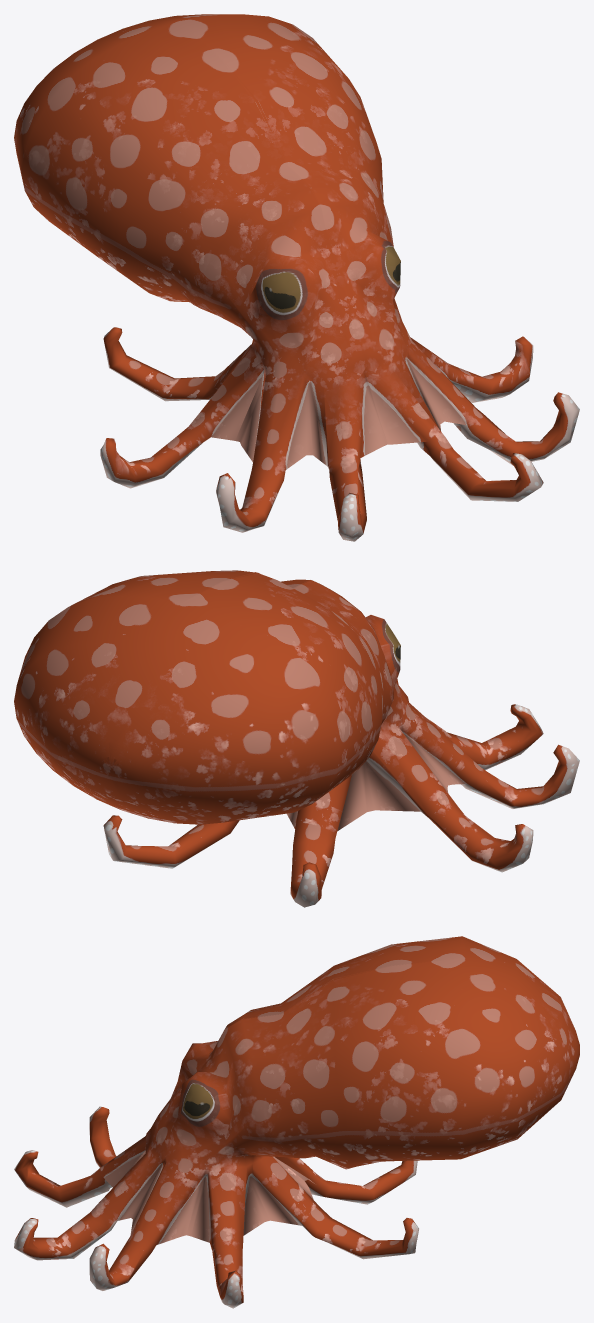
File: northAtlanticOcto00.fbx
3 renders of one model, top to bottom at view 1: azimuth 30°, elevation 25°; view 2: azimuth 150°, elevation 25°; view 3: azimuth 270°, elevation 25°, orthographic. The views are drawn at different scales.
Parts seen in each view (by area): view 1: northAtlanticOcto_final; view 2: northAtlanticOcto_final; view 3: northAtlanticOcto_final.
Boxes of the visible parts, x1=… form: northAtlanticOcto_final: x1=14, y1=14, x2=579, y2=541; northAtlanticOcto_final: x1=14, y1=570, x2=579, y2=907; northAtlanticOcto_final: x1=14, y1=936, x2=579, y2=1308.
Size of the model in its own units: 1.55 by 1.12 by 2.09.
Materials: 1 (1 with a texture image).
